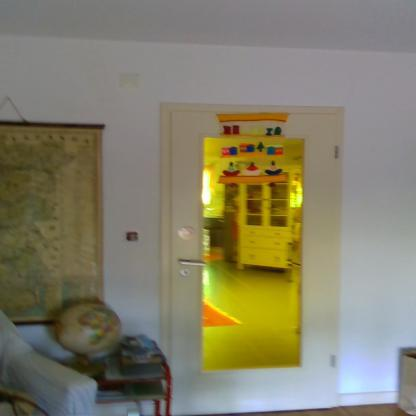door: (173, 112, 337, 410)
hinged: (329, 352, 337, 370), (334, 145, 342, 160)
lever: (176, 257, 210, 268)
